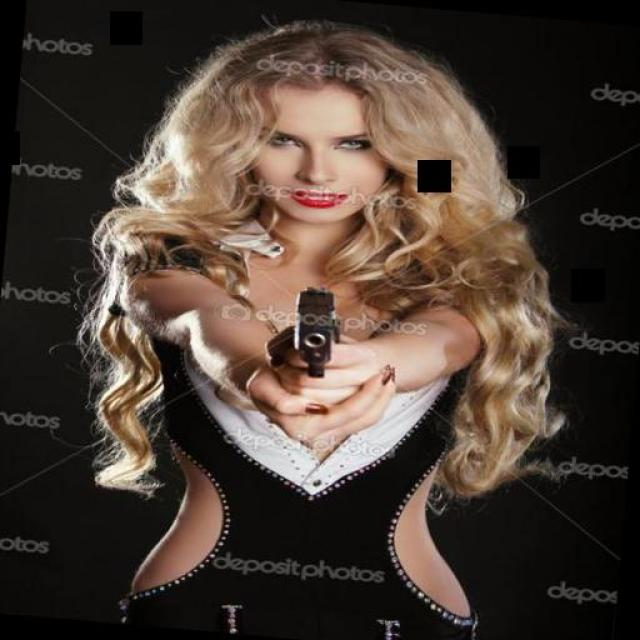gun: (266, 271, 356, 390)
